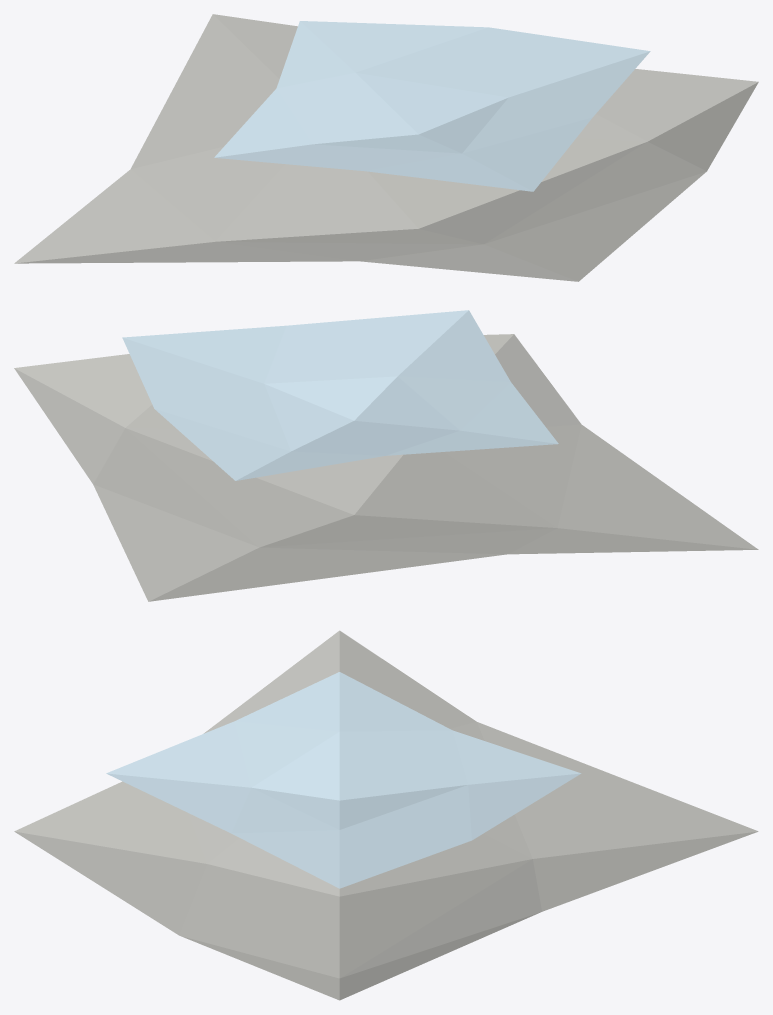
The model's file is puddle_stone_v30.glb.
The picture shows the model from 3 angles, top to bottom: view 1: azimuth 30°, elevation 25°; view 2: azimuth 150°, elevation 25°; view 3: azimuth 270°, elevation 25°; orthographic projection.
Parts seen in each view (by area): view 1: lod0; view 2: lod0; view 3: lod0.
Boxes of the visible parts, x1=… form: lod0: x1=14, y1=14, x2=758, y2=281; lod0: x1=14, y1=310, x2=758, y2=601; lod0: x1=14, y1=630, x2=758, y2=1000.
Size of what is drawn, in the model's own units: 0.9576 by 0.1815 by 0.8146.
